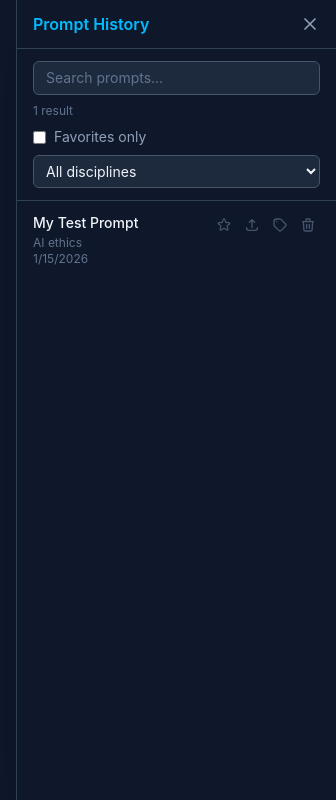
Test: PromptHistory — delete › shows confirmation UI when delete button is clicked
Check: the text "My Test Prompt" is shown, box [33, 214, 138, 231]
Step 1. Click the button named "delete prompt" → {"x": 308, "y": 225}, box [296, 213, 320, 237]
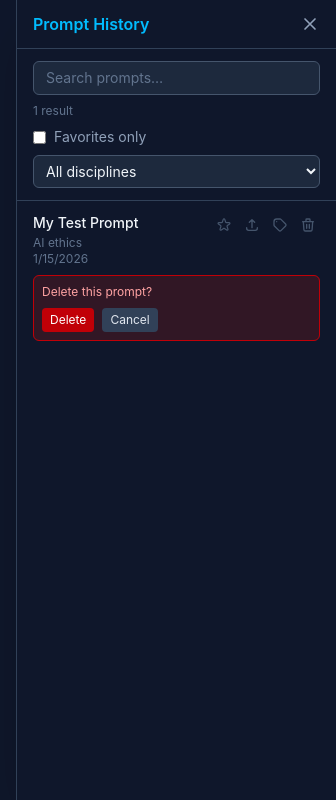
Check: the text "Delete this prompt?" is shown, box [42, 284, 152, 299]
Check: the button "Delete" is shown, box [42, 308, 94, 332]
Check: the button "Cancel" is shown, box [102, 308, 158, 332]
